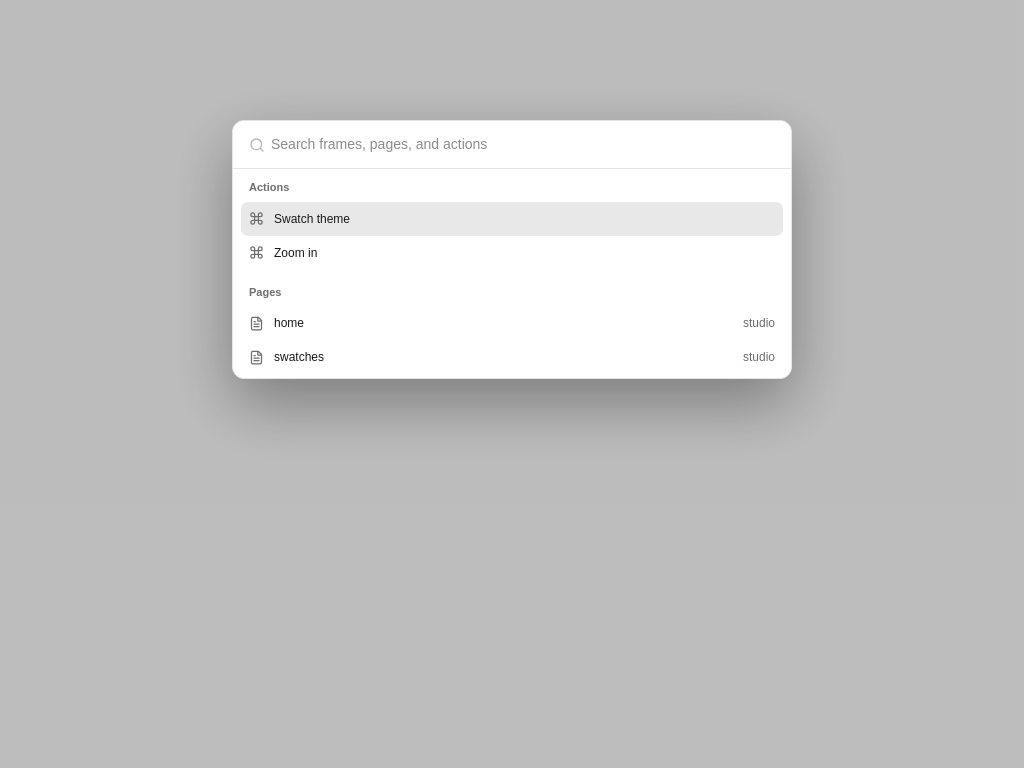
Test: CommandPalette › filters frames, pages, actions, and projects as the query is typed
The width and height of the screenshot is (1024, 768).
In the dropdown: (524, 144) [265,134,783,155], type "swatch"
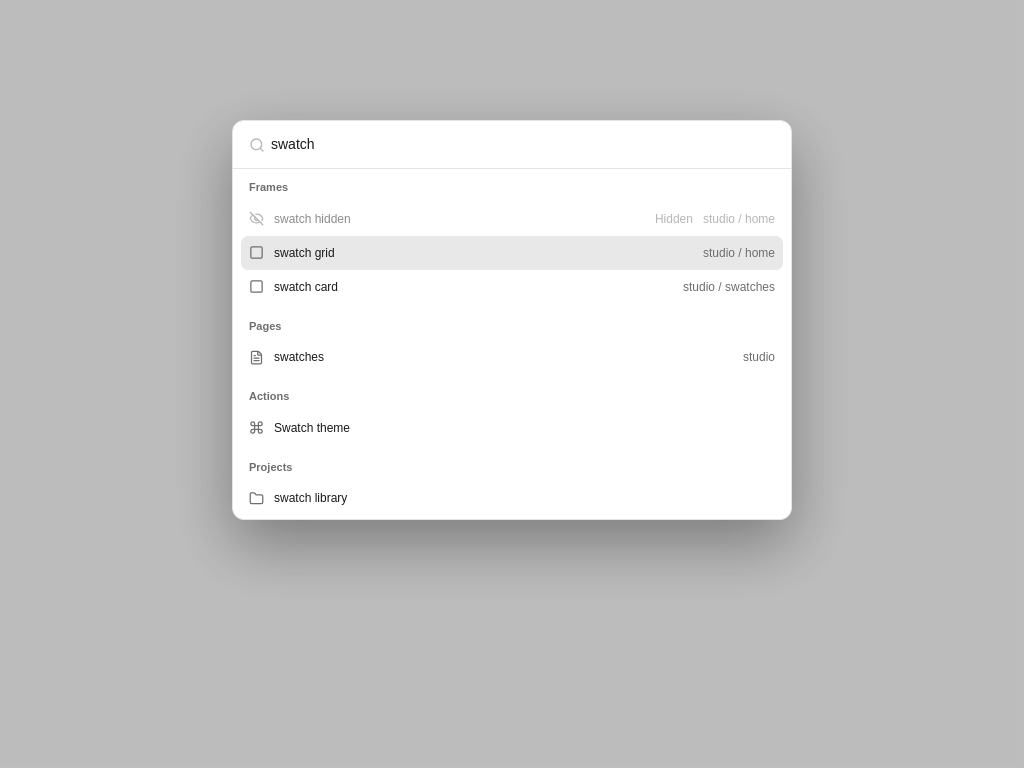
Check: the option "Zoom in" is gone
